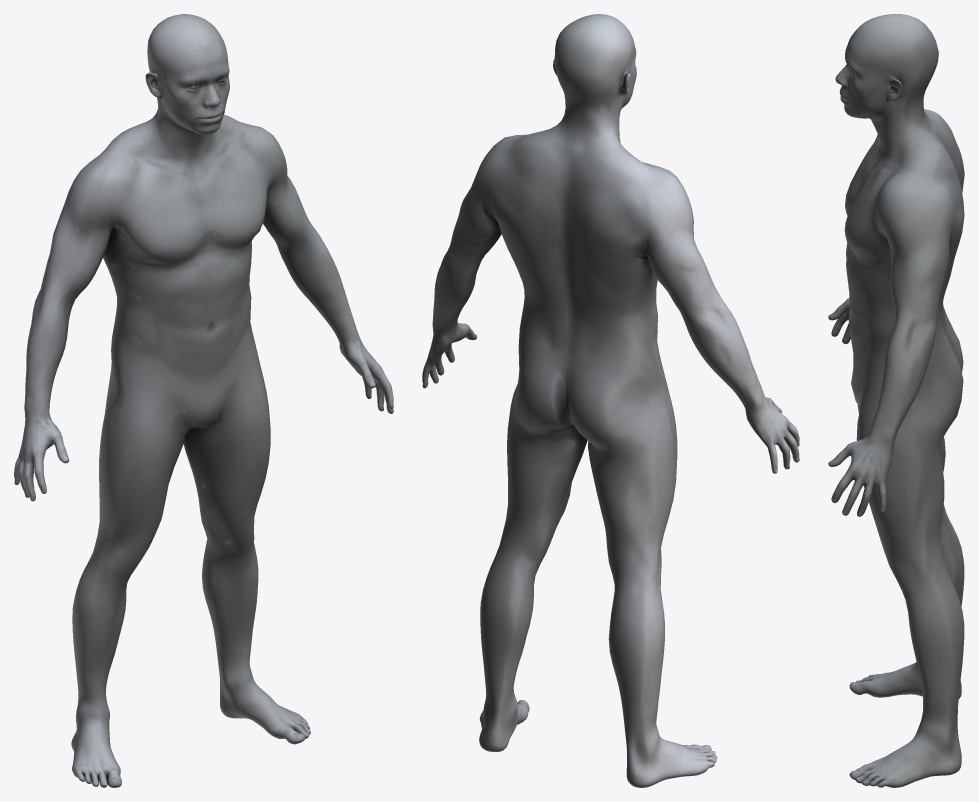
Rendered from male_rest.glb.
3 renders of one model, left to right at view 1: azimuth 30°, elevation 25°; view 2: azimuth 150°, elevation 25°; view 3: azimuth 270°, elevation 25°, orthographic.
Parts seen in each view (by area): view 1: male_rest; view 2: male_rest; view 3: male_rest.
Boxes of the visible parts, bbox=[...] form: male_rest: bbox=[14, 14, 393, 787]; male_rest: bbox=[422, 14, 799, 787]; male_rest: bbox=[828, 14, 964, 787].
Bounding box in the file's own units: 0.8807 × 1.69 × 0.2904.
1 material, 1 textured.
